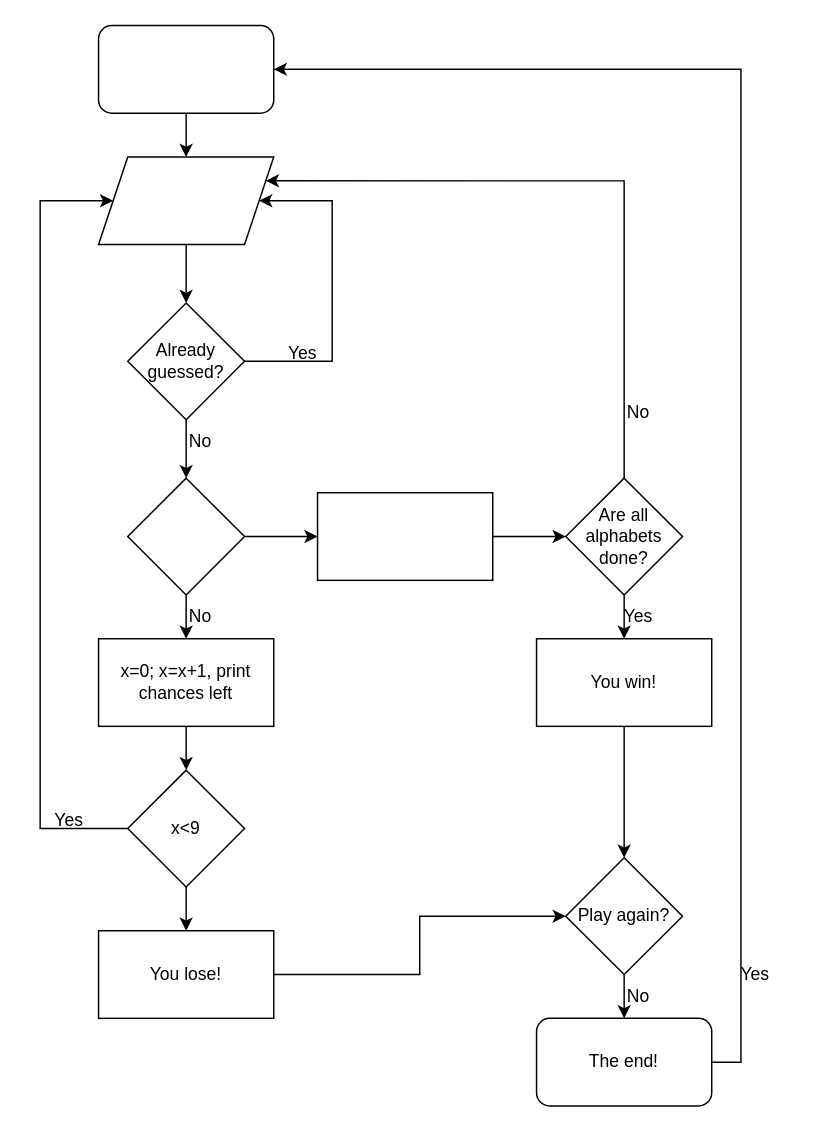
Image size: 823x1132. Some labels were removed from this diagram. The centre of each missing label's shape, as x and y in pixels:
Correct Guess?: pixel 185 536
Game Start with rules message: pixel 185 68
Print all the places where the alphabet appears: pixel 404 535
Take a Guess: pixel 185 200
